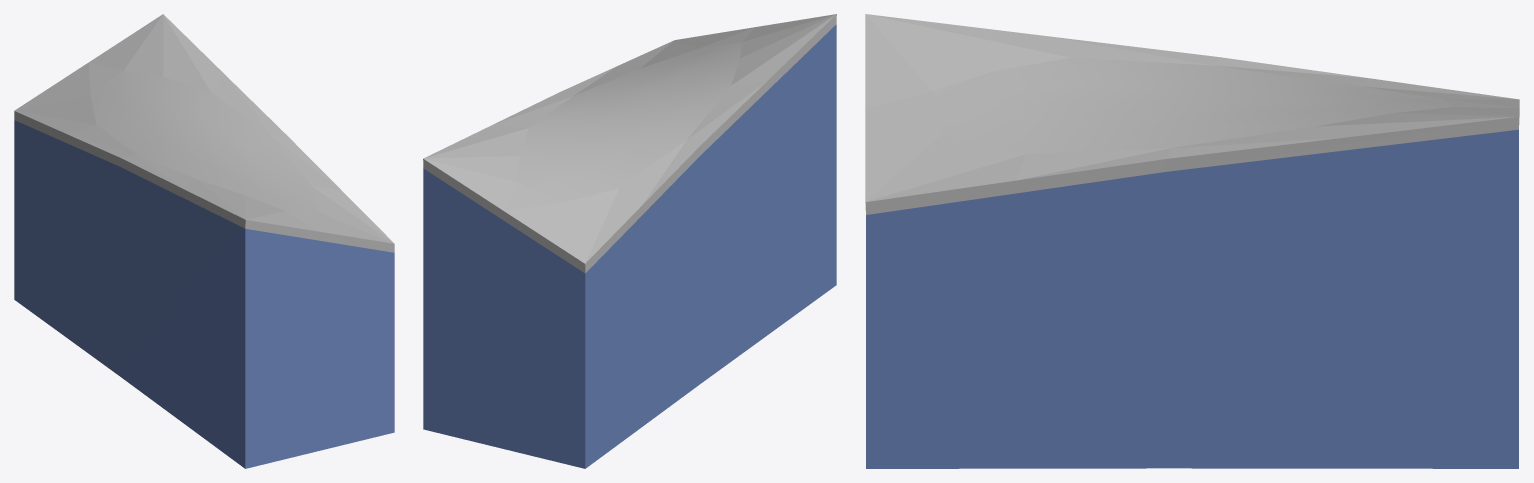
File: BoxCurveTransition.fbx
The picture shows the model from 3 angles, left to right: view 1: azimuth 30°, elevation 25°; view 2: azimuth 150°, elevation 25°; view 3: azimuth 270°, elevation 25°; orthographic projection. The views are drawn at different scales.
Parts seen in each view (by area): view 1: CurveBoxTransition; view 2: CurveBoxTransition; view 3: CurveBoxTransition.
Boxes of the visible parts, box(x1,y1,x2,y2) form: CurveBoxTransition: box(14, 14, 394, 468); CurveBoxTransition: box(423, 14, 836, 468); CurveBoxTransition: box(865, 14, 1519, 468).
Bounding box in the file's own units: 0.7302 × 1.17 × 1.96.
